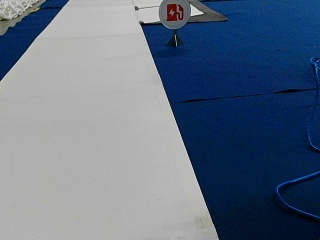battery: (157, 0, 192, 29)
